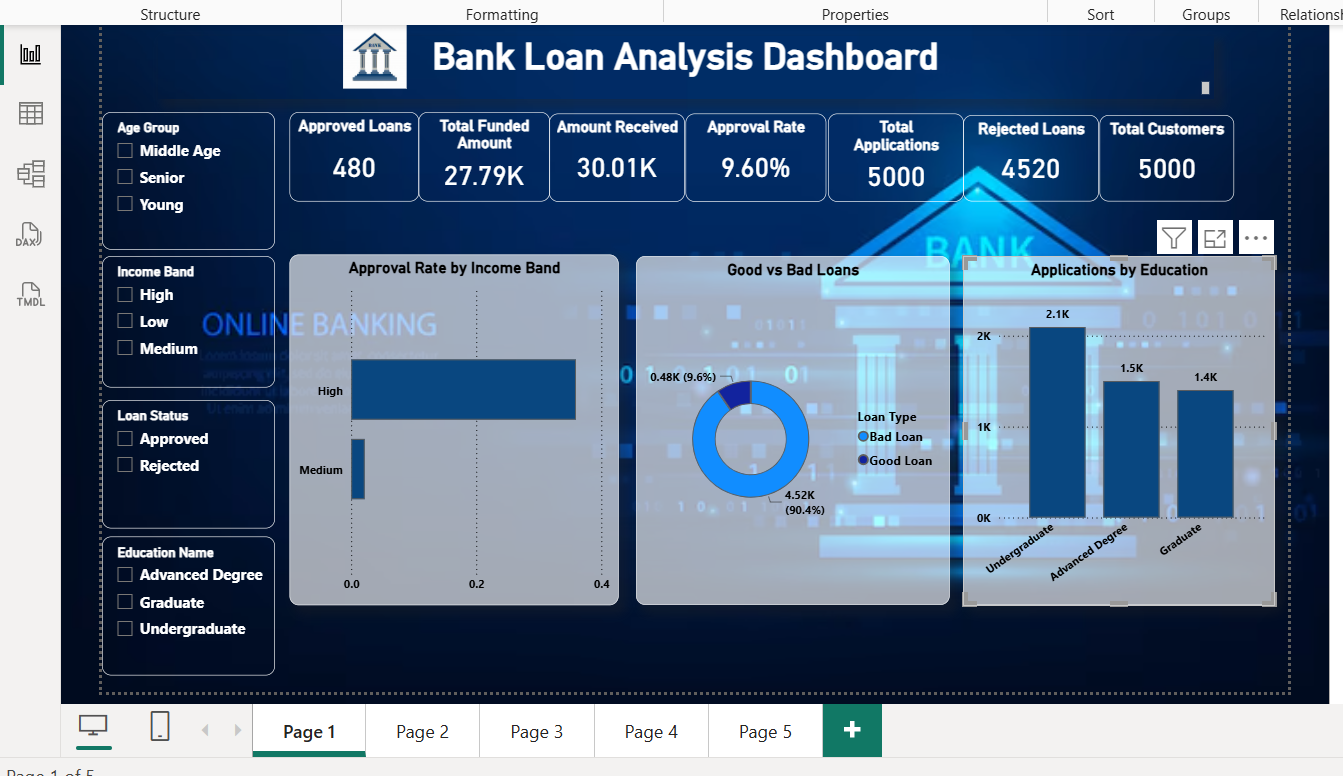

What the dashboard file says about the page in this screenshot:
{"tool":"powerbi","page":{"name":"Page 1","canvas":[1280,720],"ordinal":0},"visuals":[{"type":"card","title":"Total Customers","fields":{"Values":["Data.Total Customers"]},"box":[1076.7,96.7,145,93.3],"z":0},{"type":"card","title":"Total Applications","fields":{"Values":["Data.Total Applications"]},"box":[783.3,95,146.7,95],"z":1000},{"type":"card","title":"Rejected Loans","fields":{"Values":["Data.Rejected Loans"]},"box":[930,96.7,146.7,93.3],"z":2000},{"type":"card","title":"Approval Rate","fields":{"Values":["Data.Approval Rate"]},"box":[630,95,151.7,95],"z":3000},{"type":"card","title":"Total Funded Amount","fields":{"Values":["Data.Total Funded Amount"]},"box":[341.7,93.3,141.7,96.7],"z":4000},{"type":"card","title":"Amount Received","fields":{"Values":["Sum(Data.Amount Received)"]},"box":[483.3,95,146.7,95],"z":5000},{"type":"donutChart","title":"Good vs Bad Loans","fields":{"Category":["Data.Loan Type"],"Y":["CountNonNull(Data.Loan Type)"]},"box":[576.7,250,338.3,376.7],"z":6000},{"type":"clusteredColumnChart","title":"Applications by Education","fields":{"Category":["Data.Education Name"],"Y":["Data.Total Applications"]},"box":[930,250,336.7,376.7],"z":7000},{"type":"barChart","fields":{"Category":["Data.Income Band"],"Y":["Data.Approval Rate"]},"box":[201.7,248.3,355,378.3],"z":8000},{"type":"slicer","fields":{"Values":["Data.Age Group"]},"box":[0,93.3,186.7,148.3],"z":9000},{"type":"slicer","fields":{"Values":["Data.Income Band"]},"box":[0,250,186.7,141.7],"z":10000},{"type":"slicer","fields":{"Values":["Data.Education Name"]},"box":[0,551.7,186.7,150],"z":11000},{"type":"slicer","fields":{"Values":["Data.Loan Status"]},"box":[0,405,186.7,138.3],"z":12000},{"type":"card","title":"Approved Loans","fields":{"Values":["Data.Approved Loans"]},"box":[201.7,93.3,140,96.7],"z":13000},{"type":"textbox","title":"Bank Loan Analysis Dashboard","box":[60,11.7,1140,68.3],"z":14000},{"type":"image","box":[186.7,0,216.7,68.3],"z":15000}]}

Visuals, with their boxes on the page's 1280x720 design canvas (x1, y1, x2, y2). These are canvas units, not pixel positions in the 1343x776 screenshot, which may show the page scaled, cropped or inside an application window:
"Total Customers" card: (1077,97,1222,190)
"Total Applications" card: (783,95,930,190)
"Rejected Loans" card: (930,97,1077,190)
"Approval Rate" card: (630,95,782,190)
"Total Funded Amount" card: (342,93,483,190)
"Amount Received" card: (483,95,630,190)
"Good vs Bad Loans" donutChart: (577,250,915,627)
"Applications by Education" clusteredColumnChart: (930,250,1267,627)
barChart - Data.Income Band x Data.Approval Rate: (202,248,557,627)
slicer - Data.Age Group: (0,93,187,242)
slicer - Data.Income Band: (0,250,187,392)
slicer - Data.Education Name: (0,552,187,702)
slicer - Data.Loan Status: (0,405,187,543)
"Approved Loans" card: (202,93,342,190)
"Bank Loan Analysis Dashboard" textbox: (60,12,1200,80)
image: (187,0,403,68)
